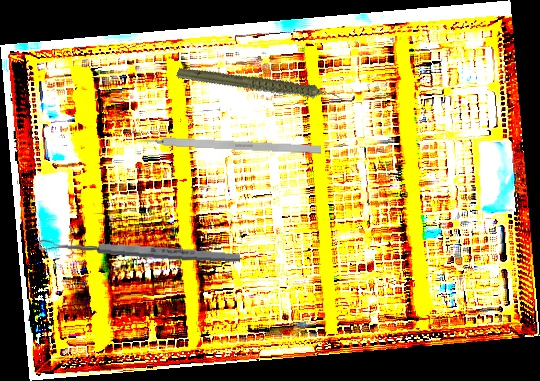Handpiece: (174, 34, 346, 140)
Hook Surgical: (126, 134, 322, 155)
Surgical Spoon: (38, 237, 241, 265)
